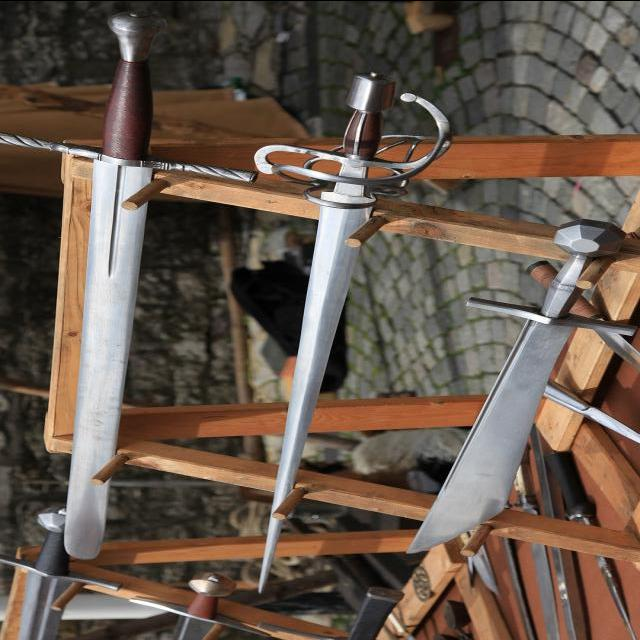sword: (1, 9, 262, 559), (251, 73, 456, 604), (408, 218, 639, 556), (1, 504, 127, 640), (129, 573, 270, 640)
